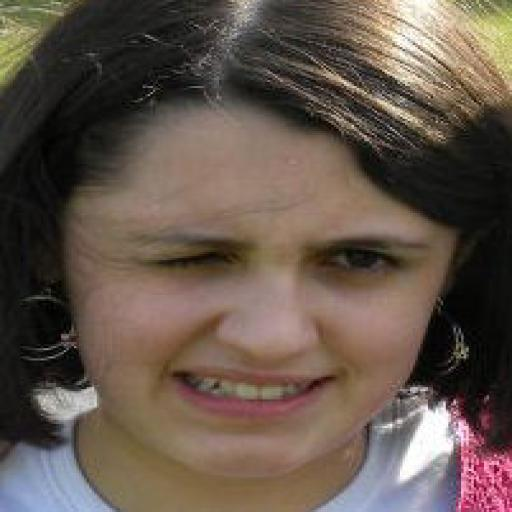Autism: (6, 8, 480, 450)
